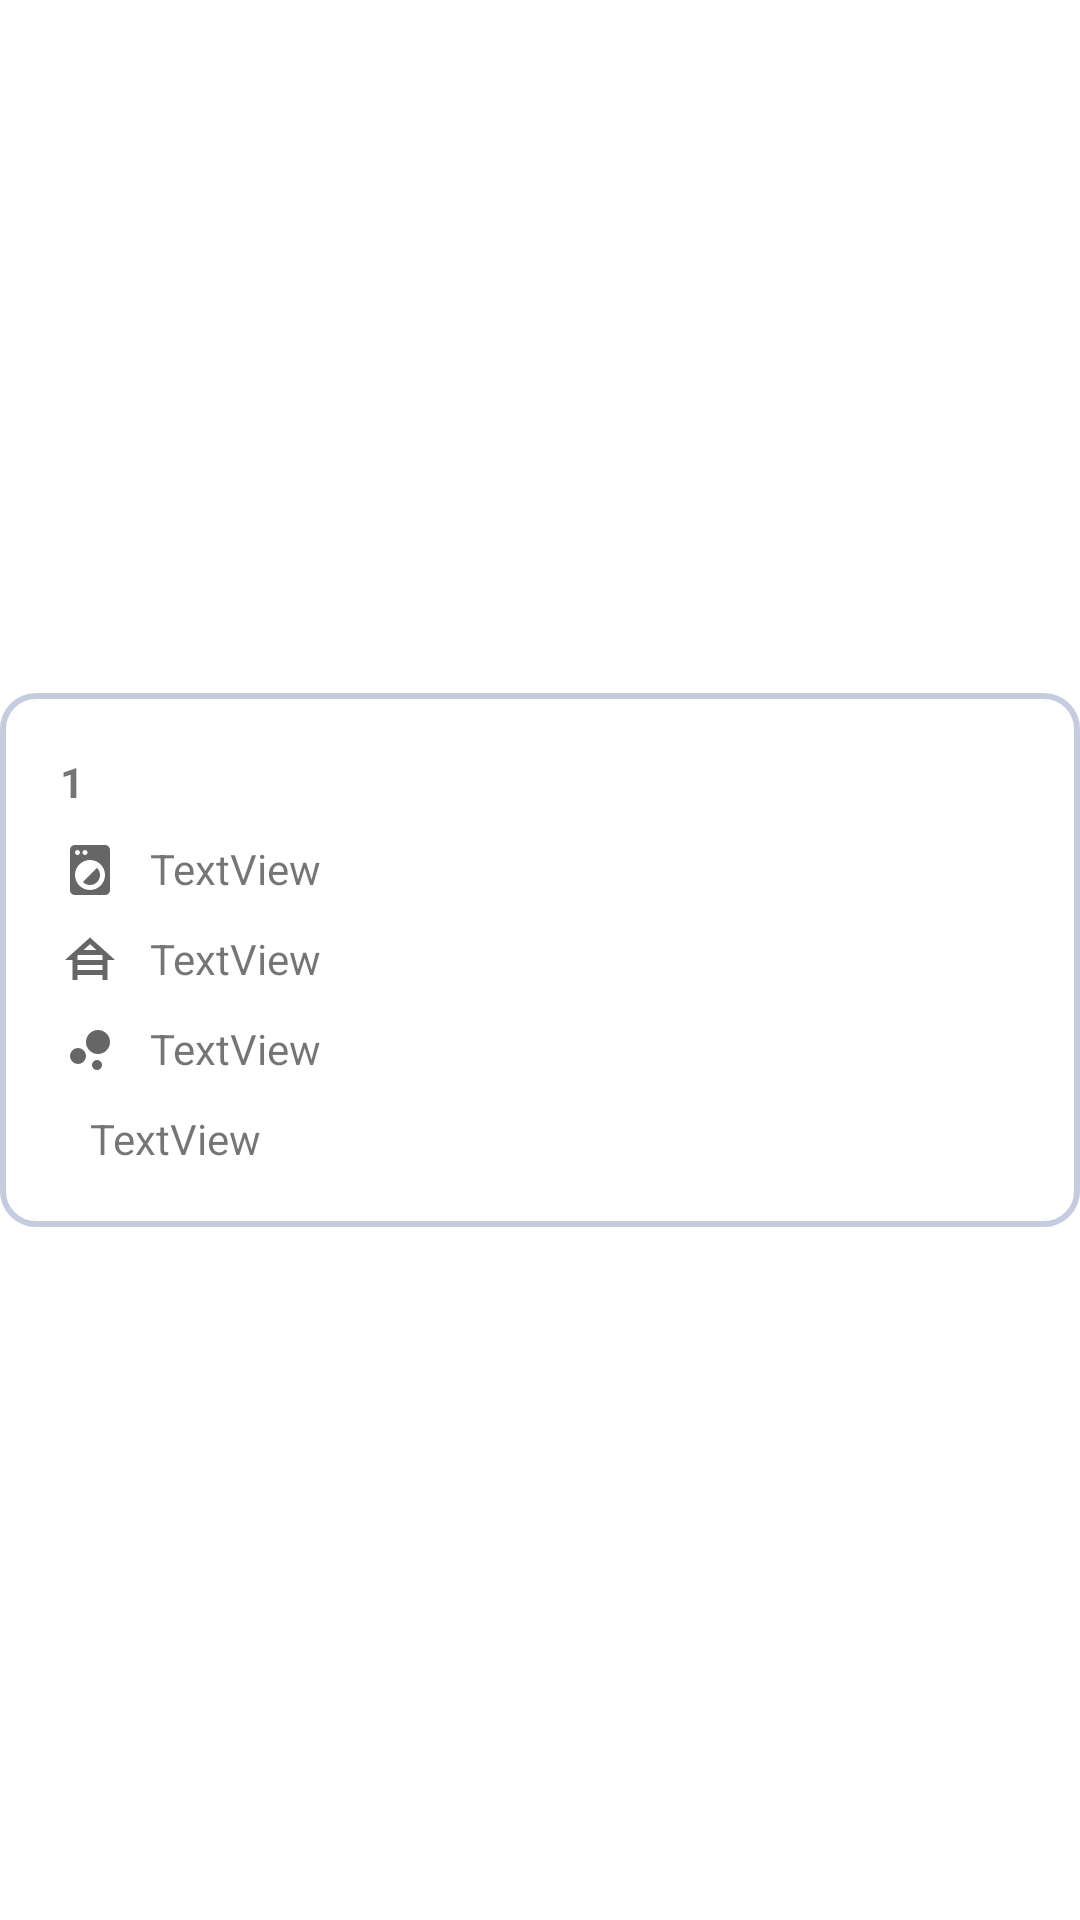

Locate icon controls on the screen. Image size 1080x1920, boxes as box(x1, y1, x2, y2).
warehouse: box(65, 937, 115, 980)
